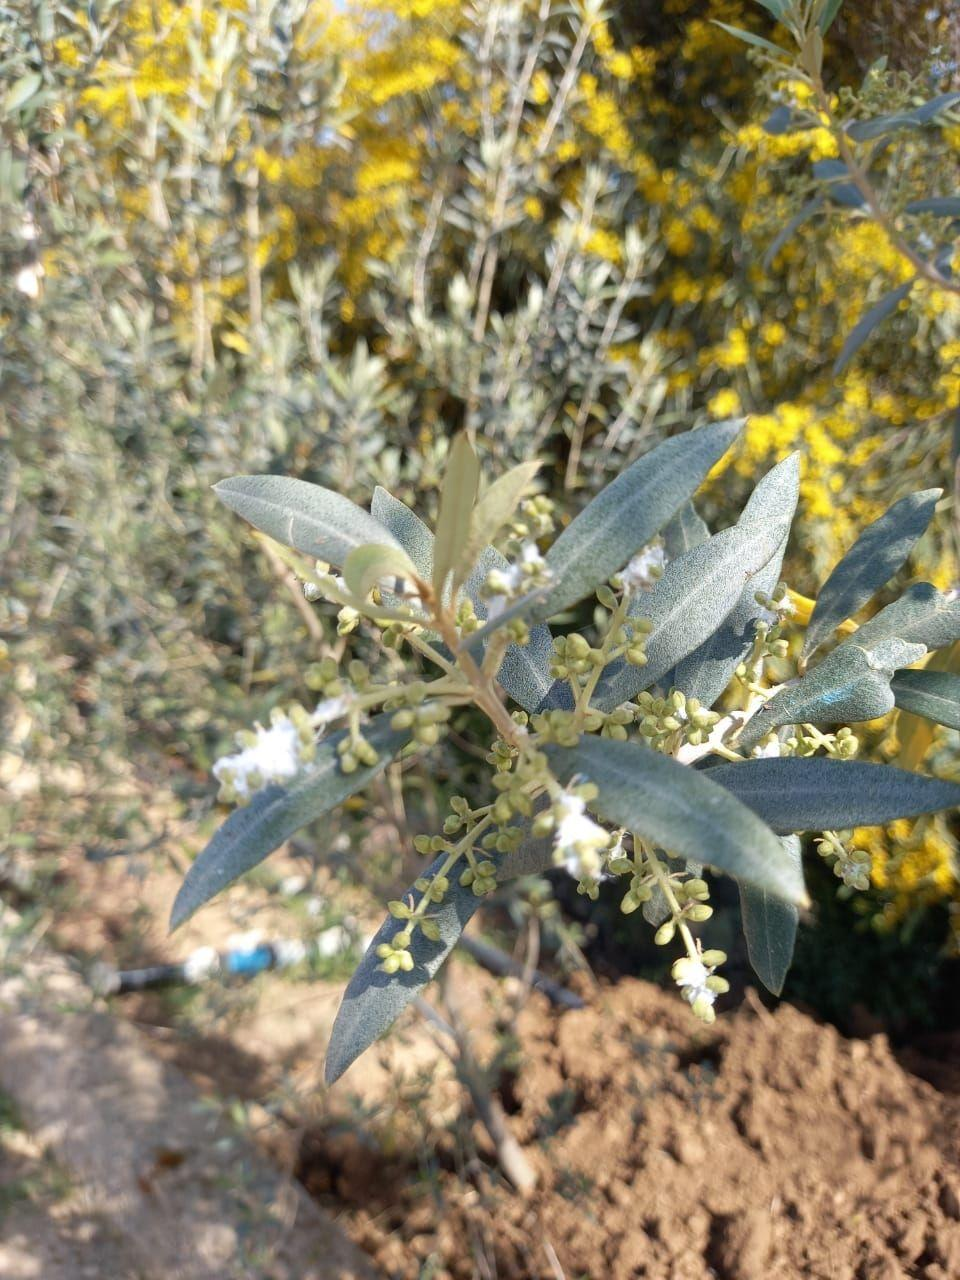Psyllid: (506, 776, 629, 905), (185, 699, 304, 818), (472, 535, 557, 637), (668, 950, 742, 1036), (606, 528, 680, 602)
